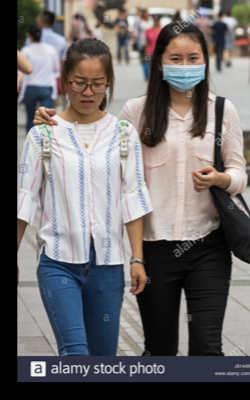with_mask: (161, 50, 207, 92)
without_mask: (65, 72, 108, 115)
